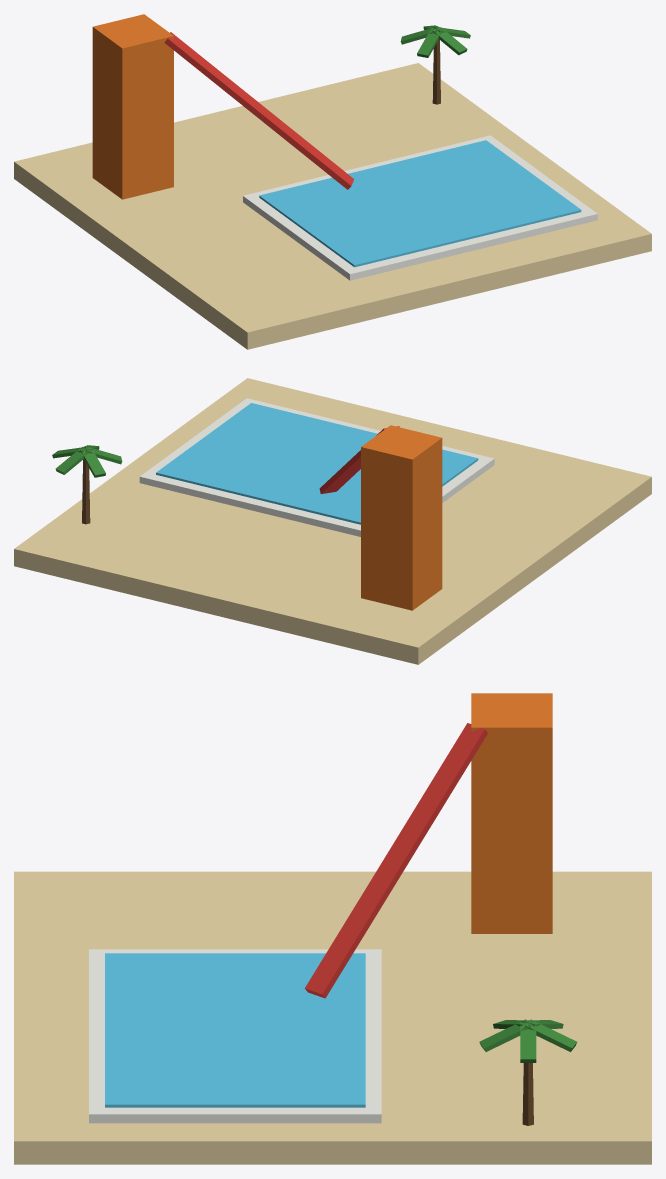
File: tourism_special_1.glb
3 views of the same model, one above another, from view 1: azimuth 30°, elevation 25°; view 2: azimuth 150°, elevation 25°; view 3: azimuth 270°, elevation 25° (orthographic). The views are drawn at different scales.
Visible parts, largest first — view 1: tourism_special_1; view 2: tourism_special_1; view 3: tourism_special_1.
Part boxes in pixels (x1,y1,x2,y2): tourism_special_1: (14,14,651,349); tourism_special_1: (14,378,651,664); tourism_special_1: (14,693,651,1164).
Size of the model in its own units: 1.98 by 0.78 by 1.96.
